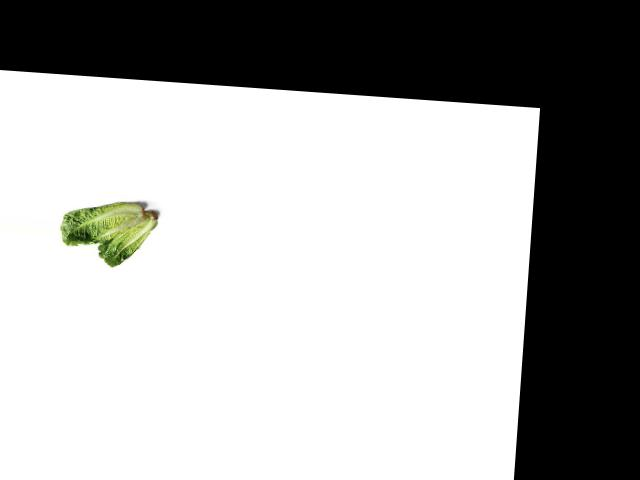lettuce: (96, 205, 163, 270)
